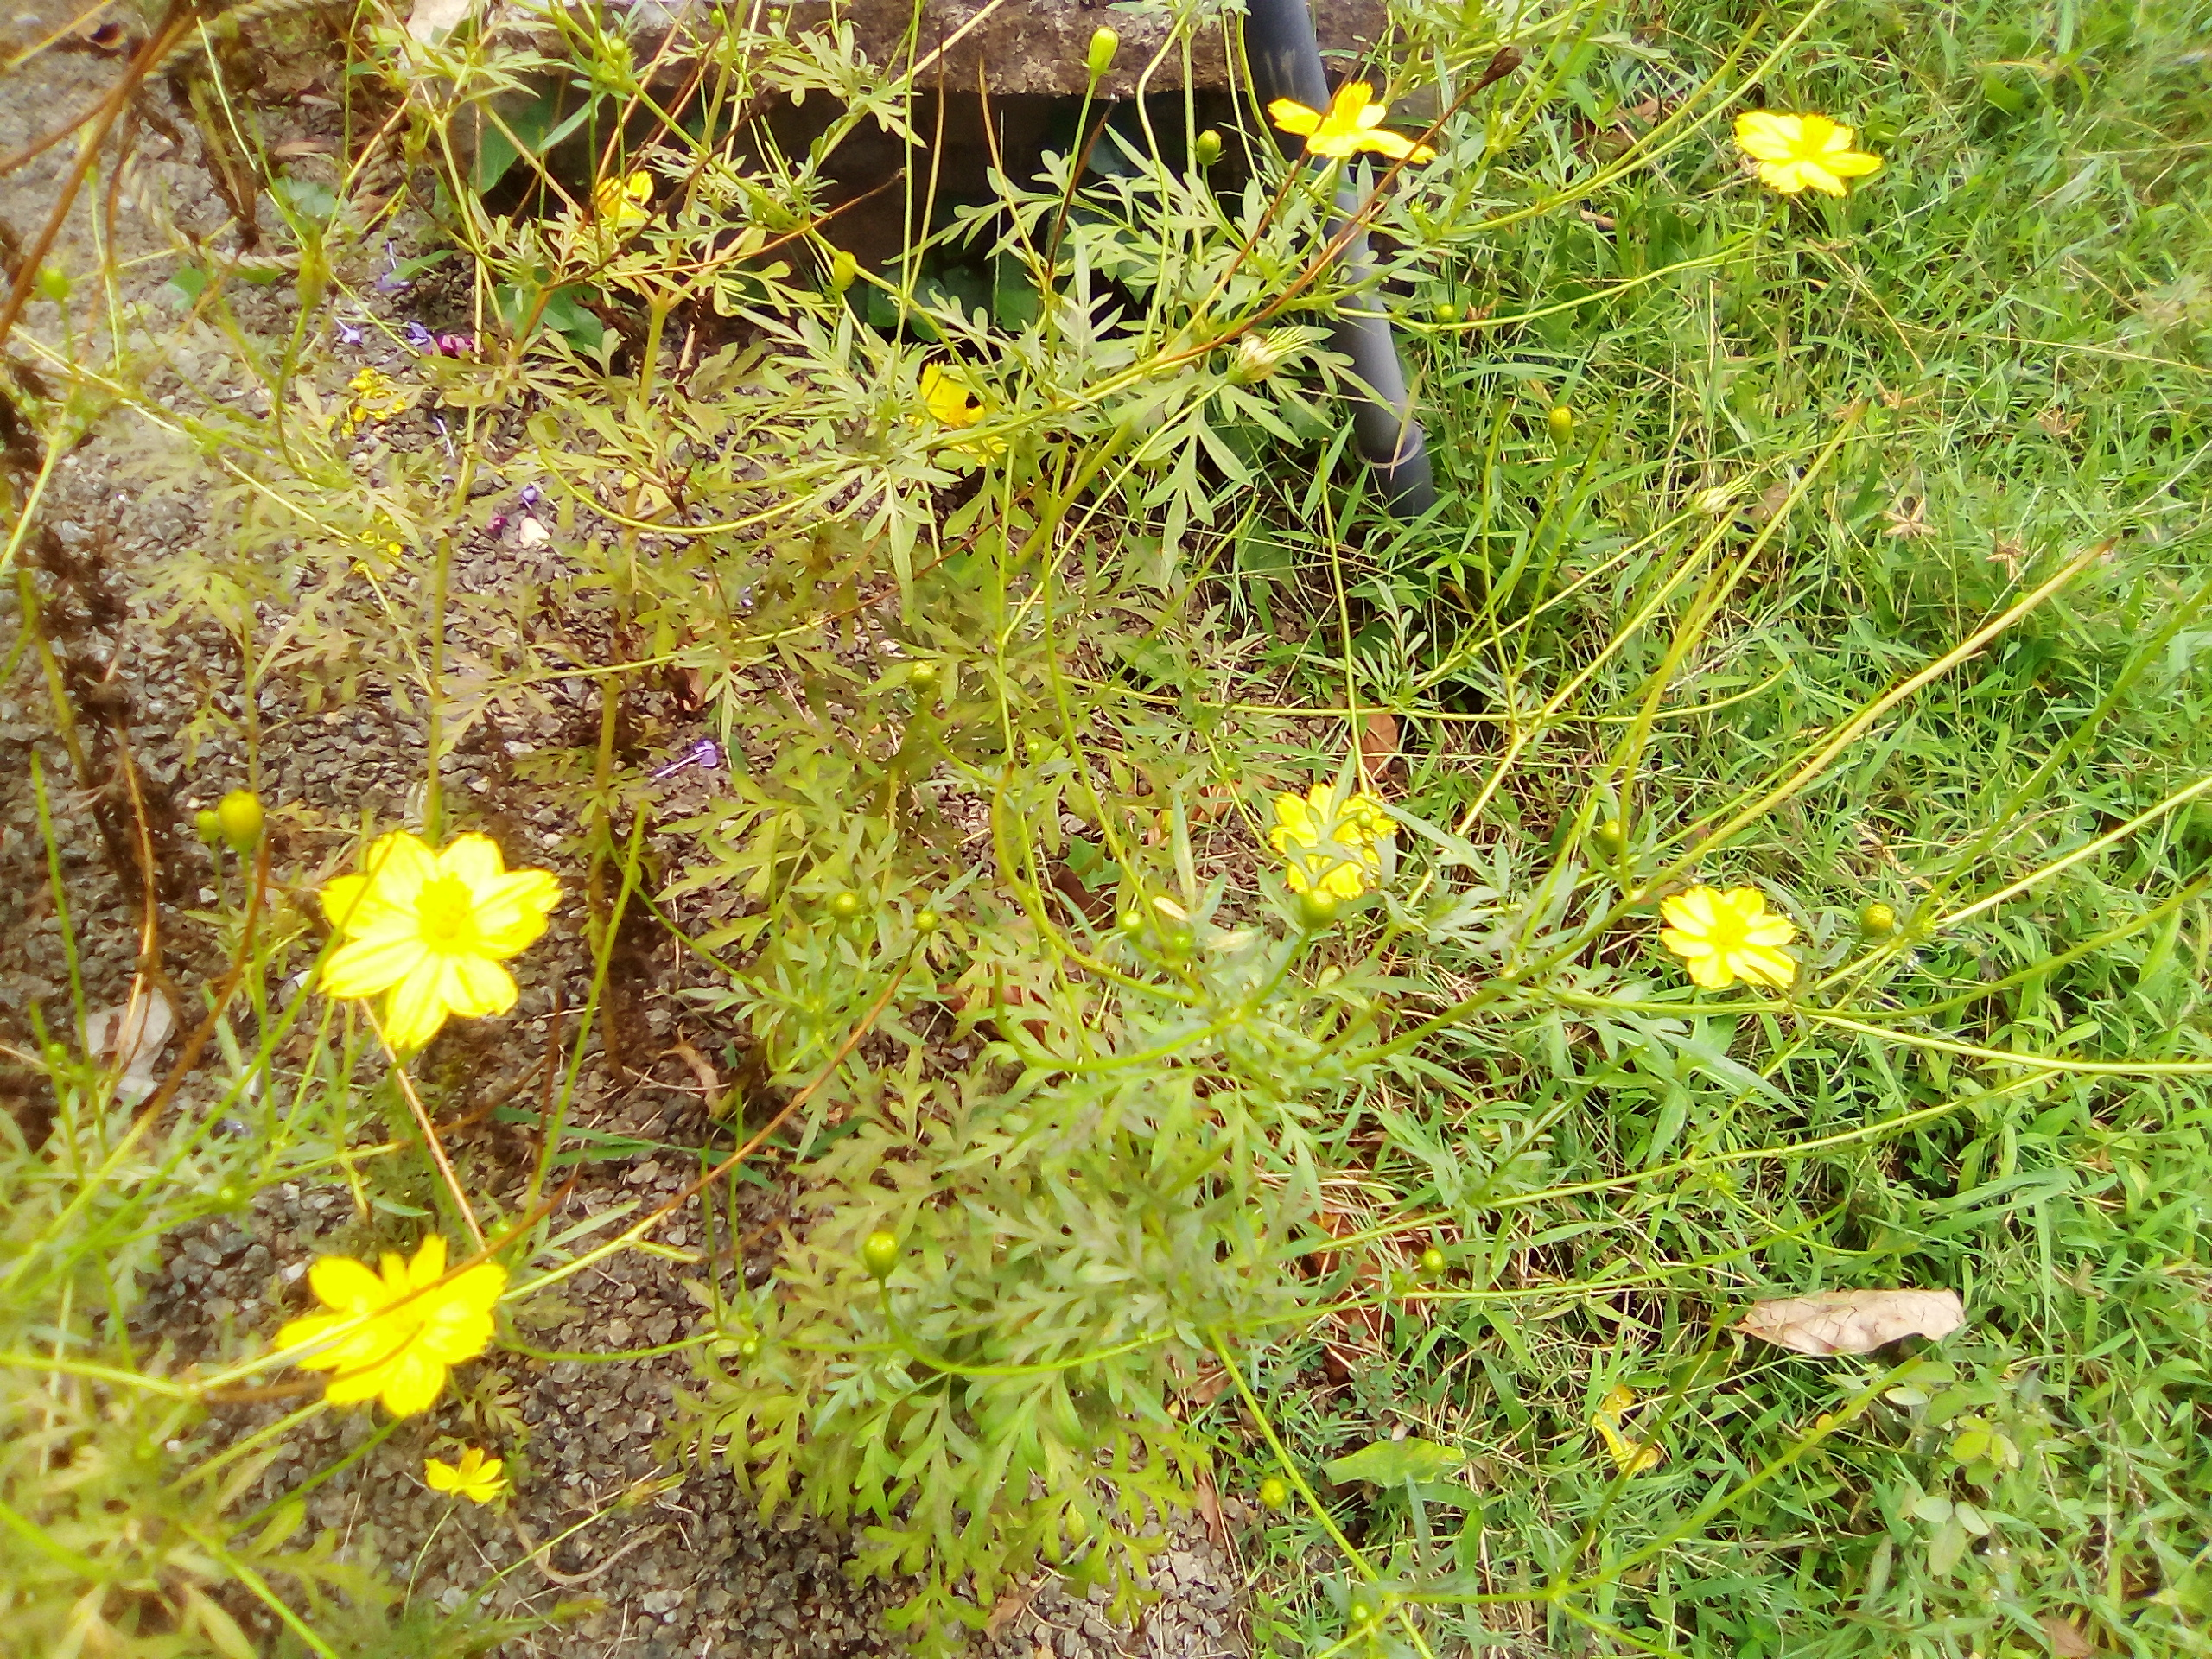kahamala: (280, 824, 557, 1033), (291, 1248, 500, 1406), (1261, 774, 1425, 911), (1723, 80, 1897, 207), (1660, 882, 1818, 997)
